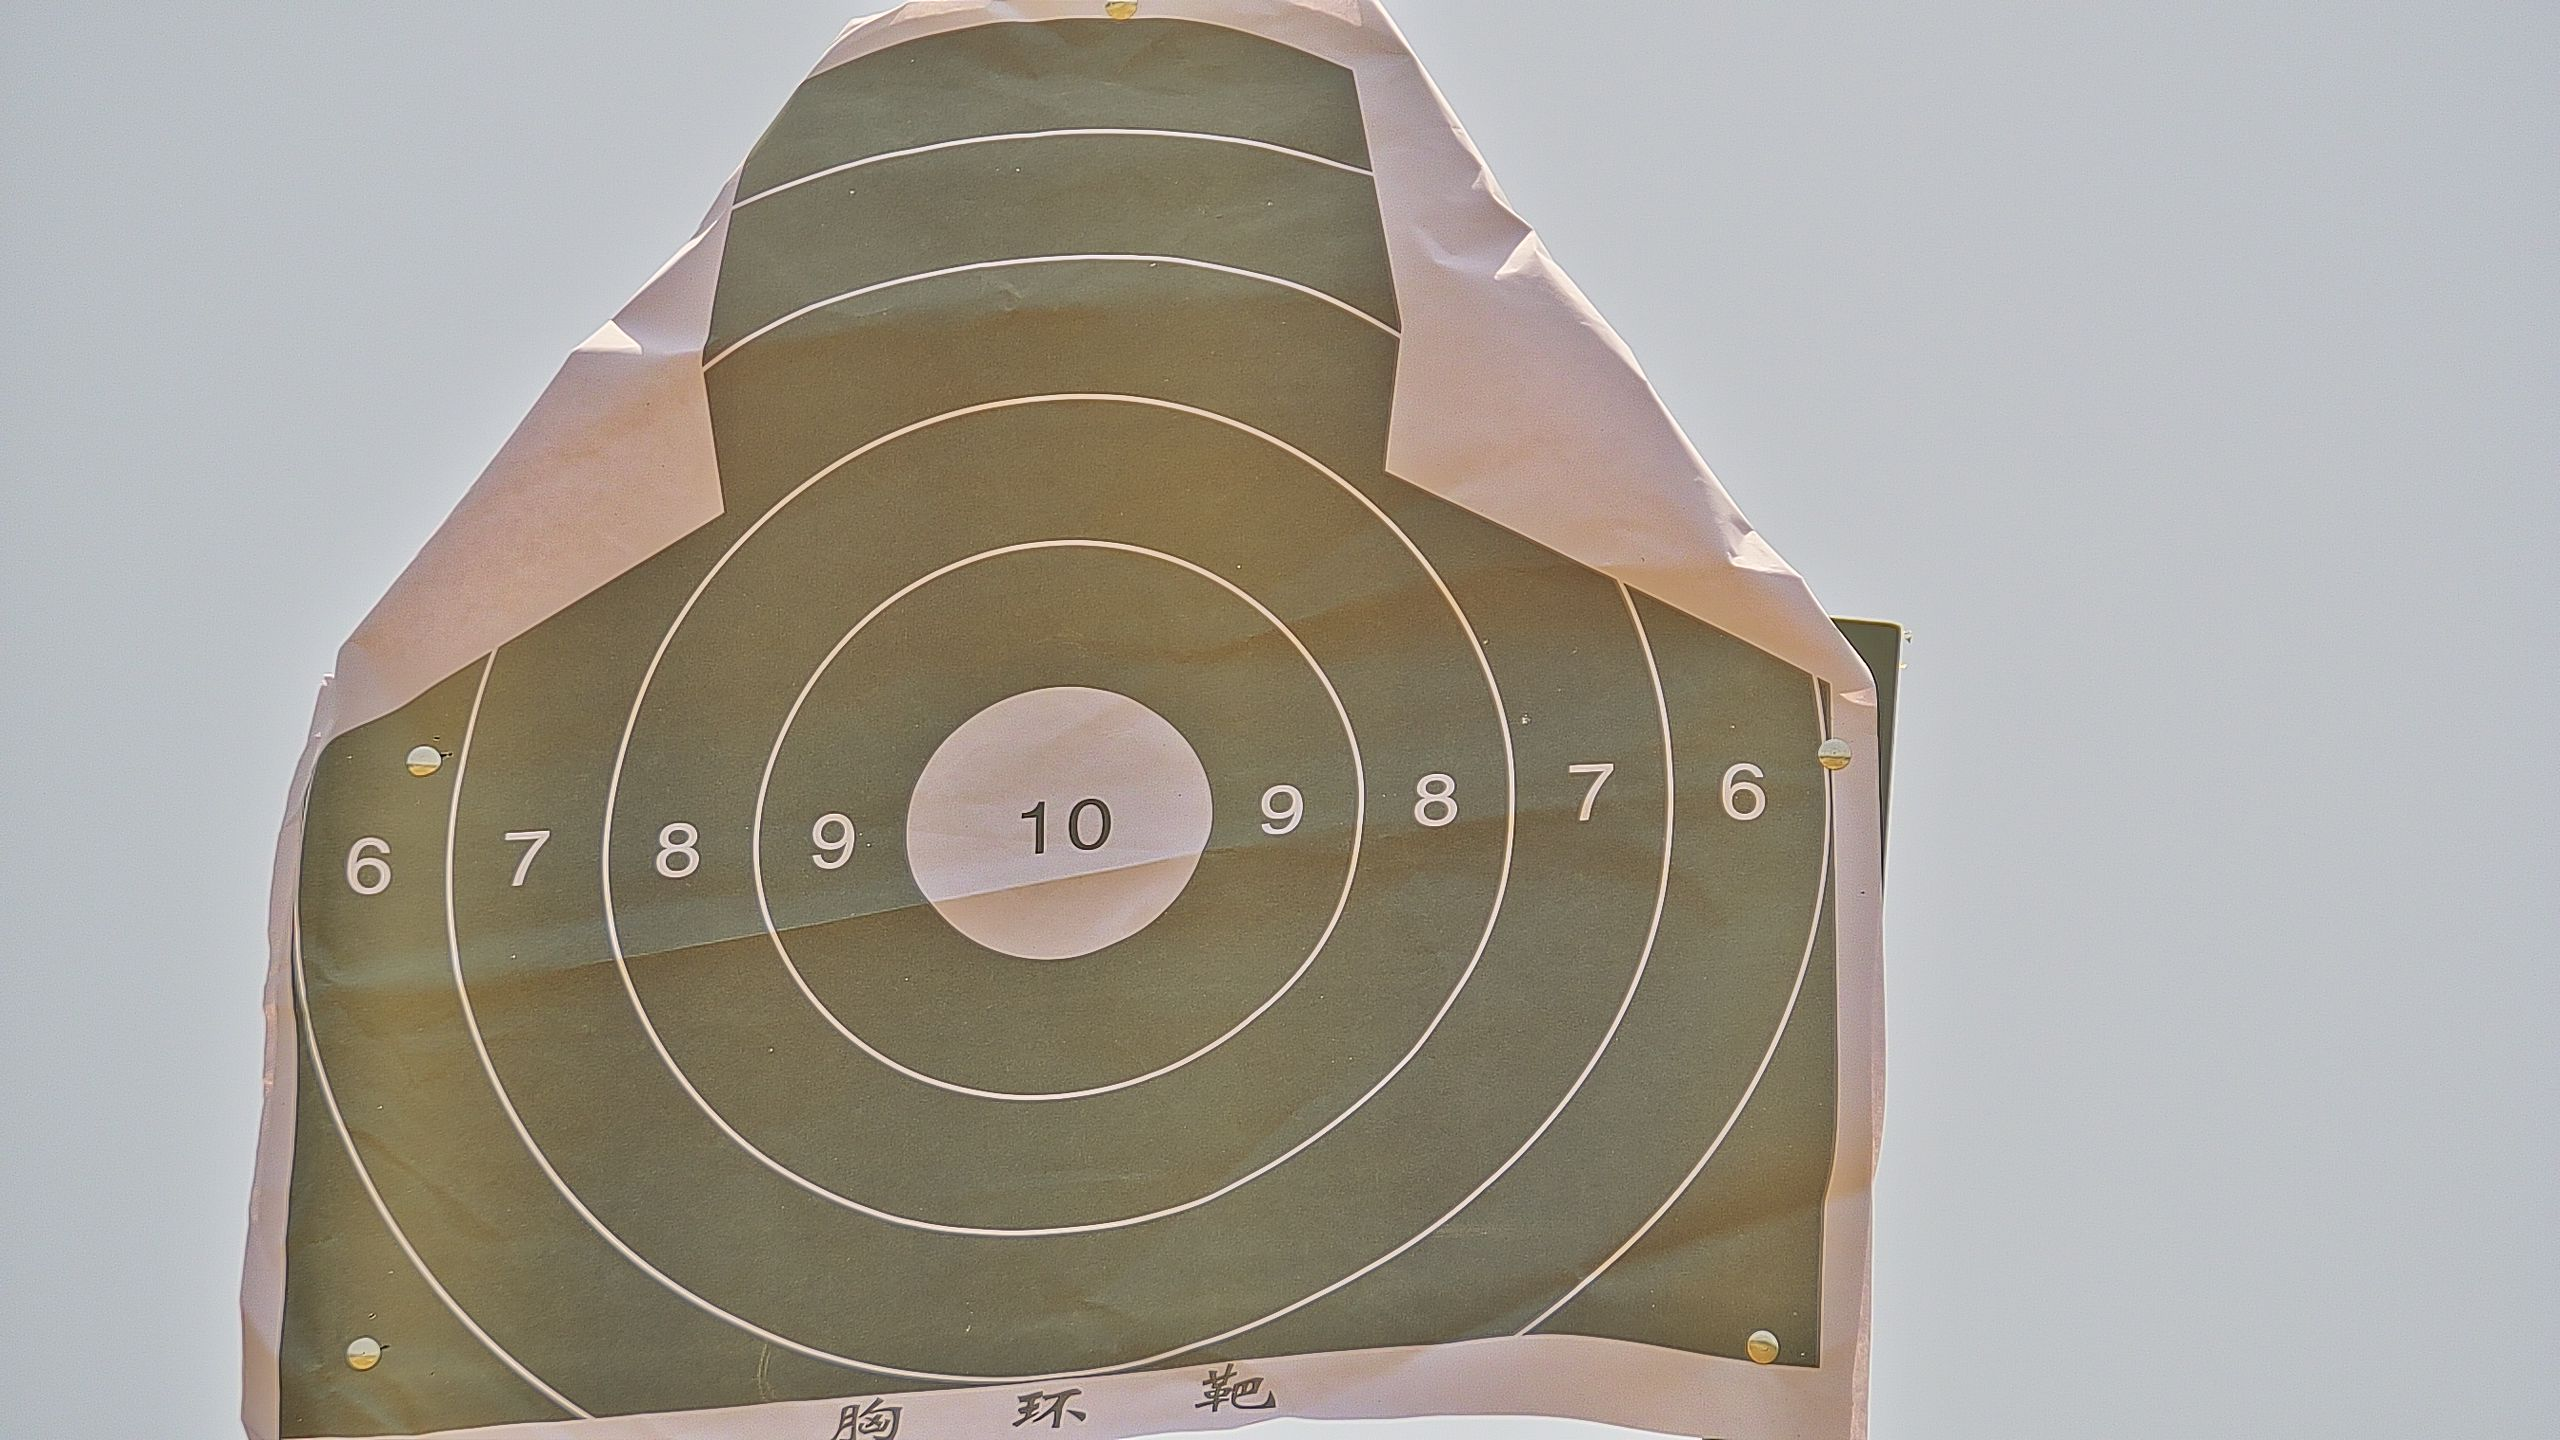kernel: (1053, 825, 1060, 828)
target: (295, 32, 1839, 1440)
ten: (900, 682, 1220, 964)
